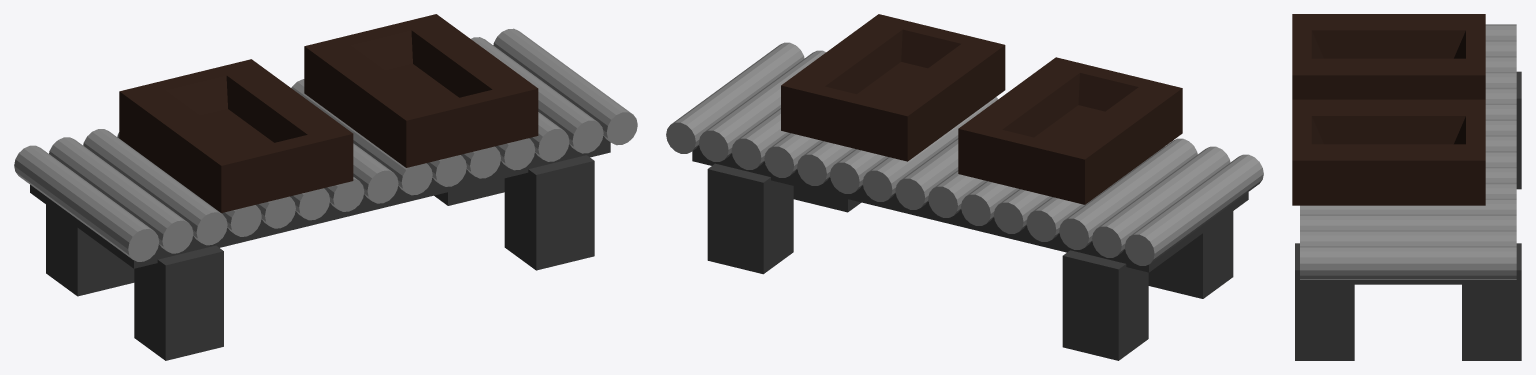
File: conveyorBeltDoubleEmptyMold.fbx
The picture shows the model from 3 angles, left to right: view 1: azimuth 30°, elevation 25°; view 2: azimuth 150°, elevation 25°; view 3: azimuth 270°, elevation 25°; orthographic projection. The views are drawn at different scales.
Visible parts, largest first — view 1: Conveyor Belt Empty Double Bar; view 2: Conveyor Belt Empty Double Bar; view 3: Conveyor Belt Empty Double Bar.
Boxes of the visible parts, x1,y1,x2,y2 form: Conveyor Belt Empty Double Bar: (14, 14, 637, 360); Conveyor Belt Empty Double Bar: (666, 14, 1263, 360); Conveyor Belt Empty Double Bar: (1292, 14, 1521, 360).
Size of the model in its own units: 193 by 79.54 by 66.33.
